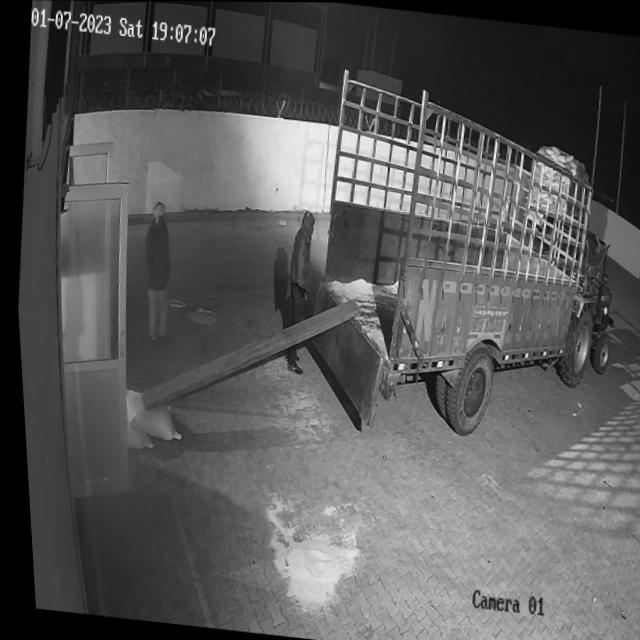sack: (117, 388, 180, 442)
